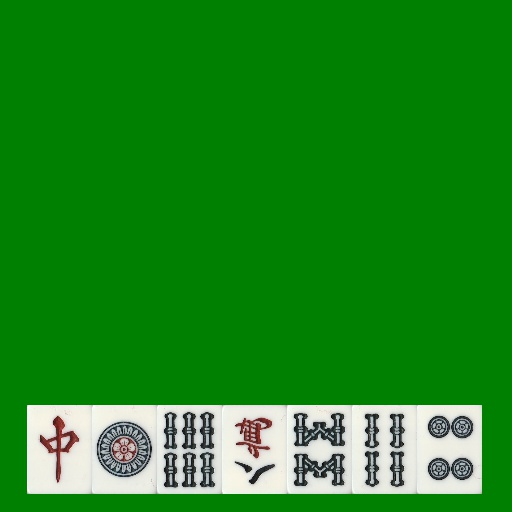1p: (92, 405, 157, 494)
4p: (417, 405, 482, 494)
4s: (352, 405, 417, 494)
6s: (157, 405, 222, 494)
8m: (222, 405, 287, 494)
8s: (287, 405, 352, 494)
tyun: (27, 405, 92, 494)
